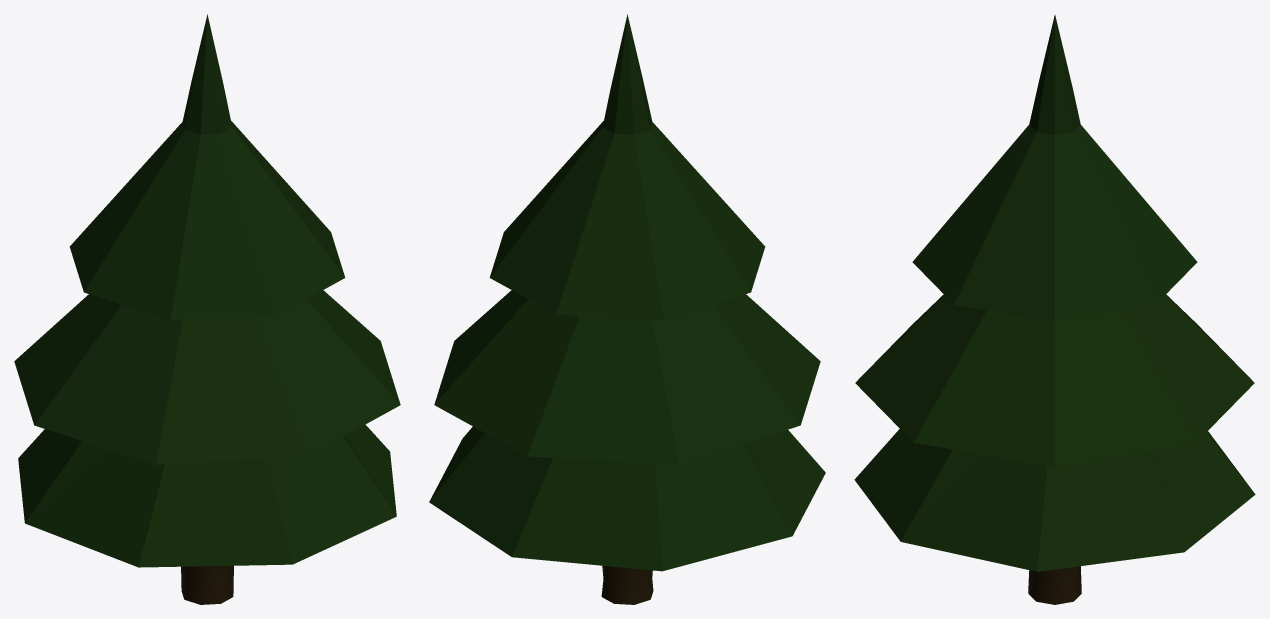
The model's file is conifer03.fbx.
3 views of the same model, side by side, from view 1: azimuth 30°, elevation 25°; view 2: azimuth 150°, elevation 25°; view 3: azimuth 270°, elevation 25° (orthographic).
Visible parts, largest first — view 1: Conifer_03; view 2: Conifer_03; view 3: Conifer_03.
Boxes of the visible parts, x1,y1,x2,y2 form: Conifer_03: (14,14,400,604); Conifer_03: (429,14,825,604); Conifer_03: (854,15,1255,604).
Bounding box in the file's own units: 149 × 238 × 149.
